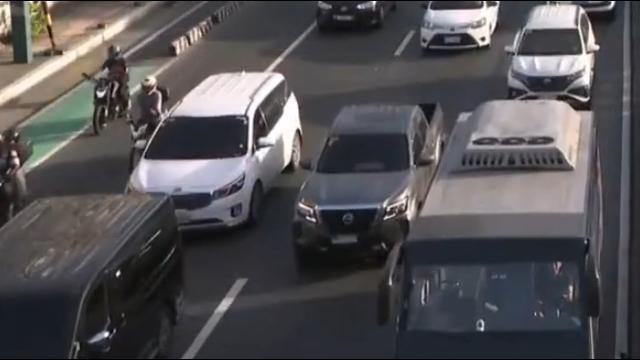bus: (380, 97, 609, 360)
car: (124, 72, 302, 234), (501, 5, 603, 106), (415, 0, 502, 58), (314, 1, 395, 32)
motorcycle: (81, 44, 131, 141), (124, 75, 171, 172), (0, 120, 35, 218)
pickup-truck: (288, 99, 454, 274)
van: (0, 185, 187, 360)
